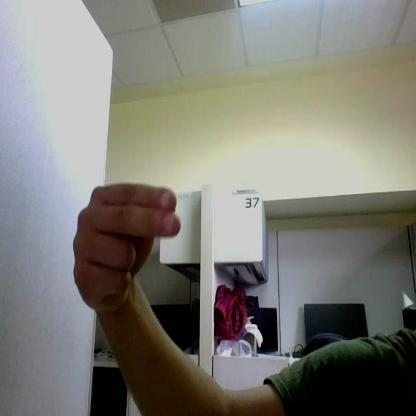H: (74, 184, 180, 311)
